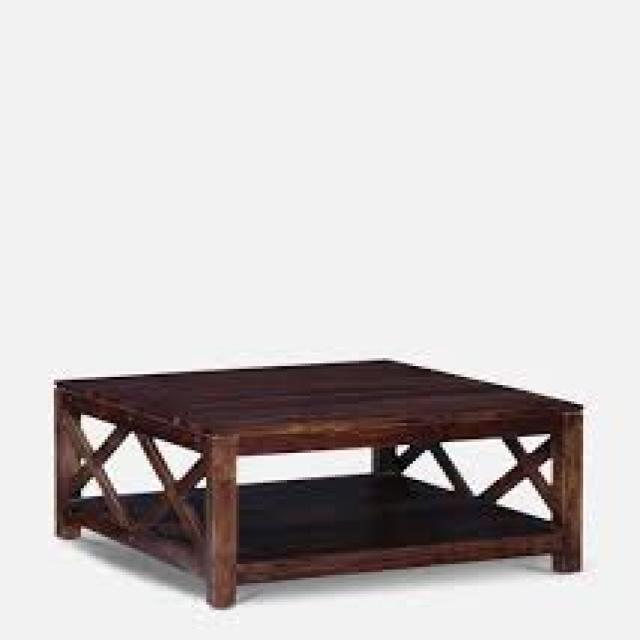obstacle: (33, 305, 609, 607)
